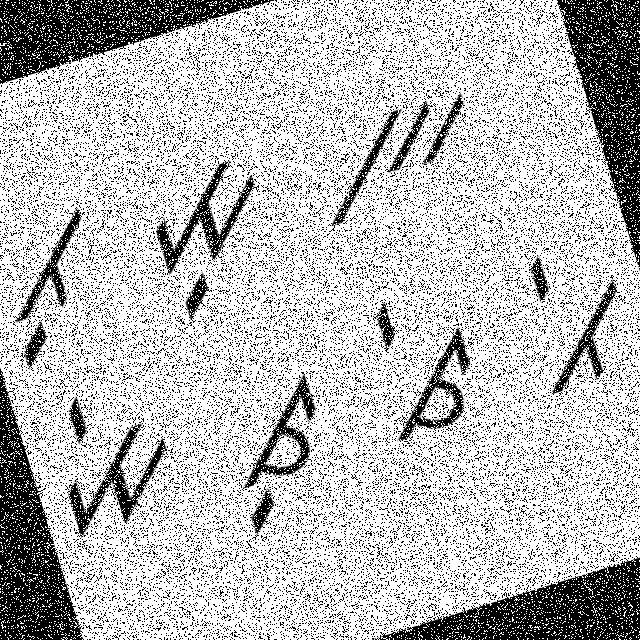be: (494, 227, 639, 411)
bu: (0, 185, 127, 372)
ce: (342, 277, 502, 457)
cu: (196, 359, 360, 542)
me: (31, 369, 192, 544)
mu: (122, 148, 298, 328)
